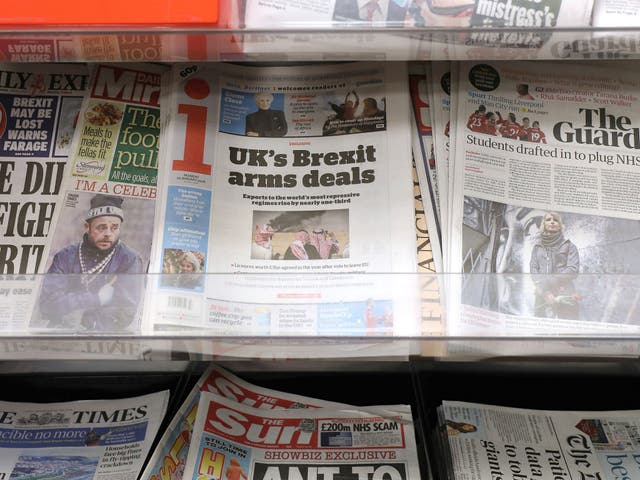news_paper: (136, 65, 514, 399), (2, 63, 287, 425), (15, 71, 284, 417), (343, 67, 547, 379), (441, 60, 640, 347), (126, 369, 436, 480), (424, 386, 640, 478), (1, 382, 170, 480)
